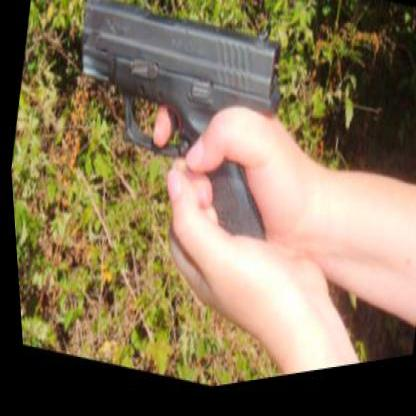pistol: (46, 0, 302, 272)
